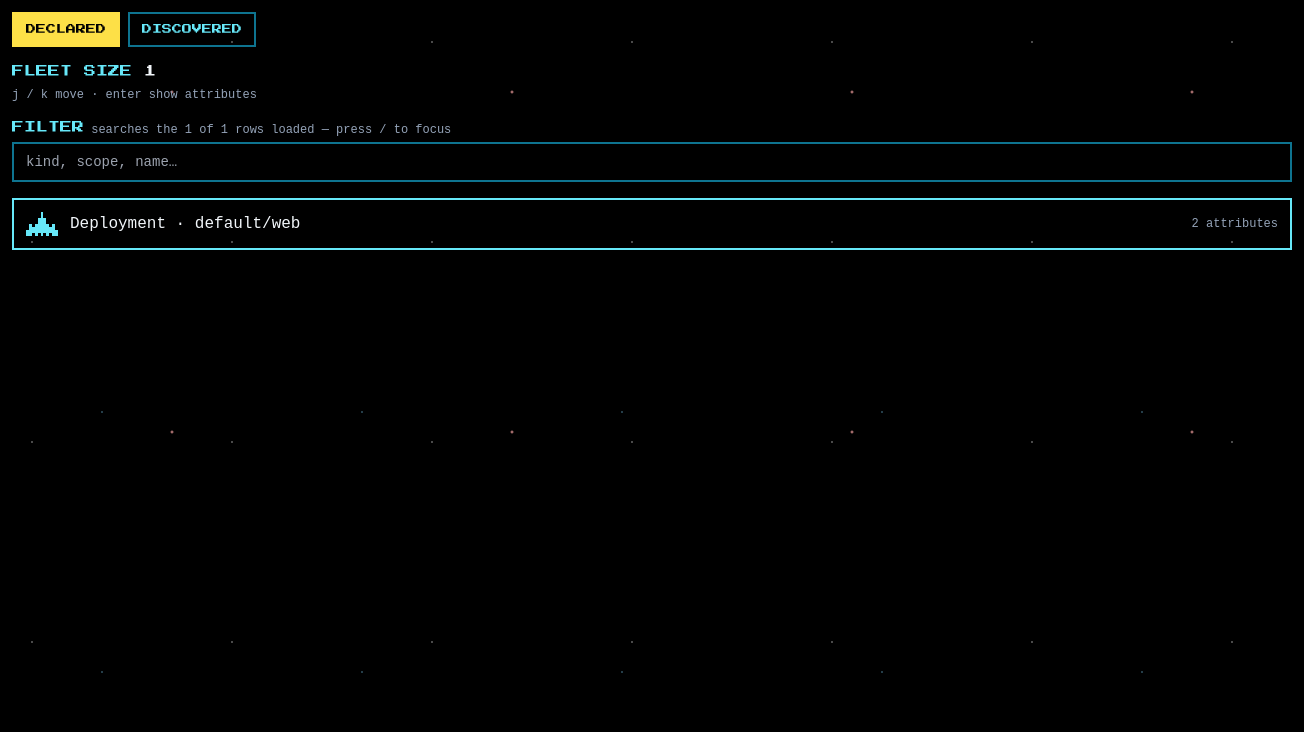
Test: switching plane replaces the rows with the discovered plane's
Check: the text "Deployment · default/web" is shown, box [70,212,300,236]
Click the button "DISCOVERED" at (192, 30), box [128,12,256,47]
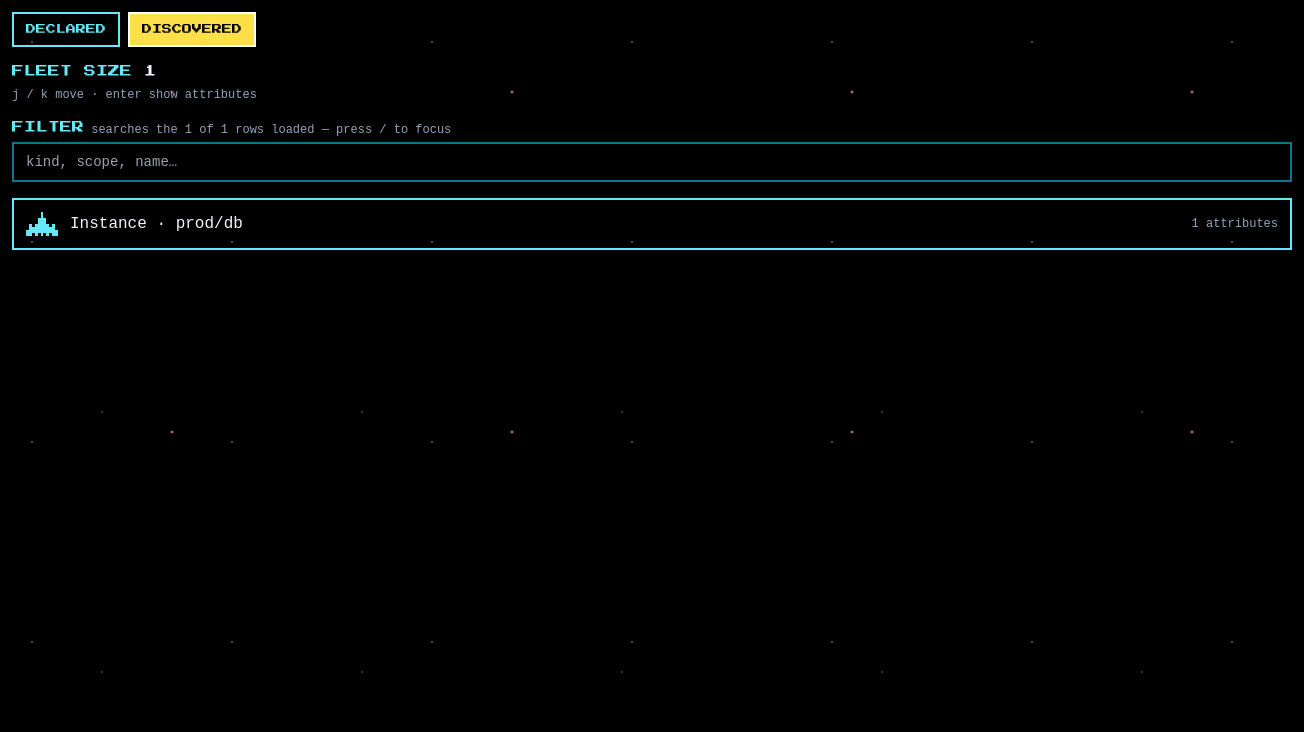
Check: the text "Instance · prod/db" is shown, box [70,212,243,236]
Check: the button "Deployment · default/web" is gone
